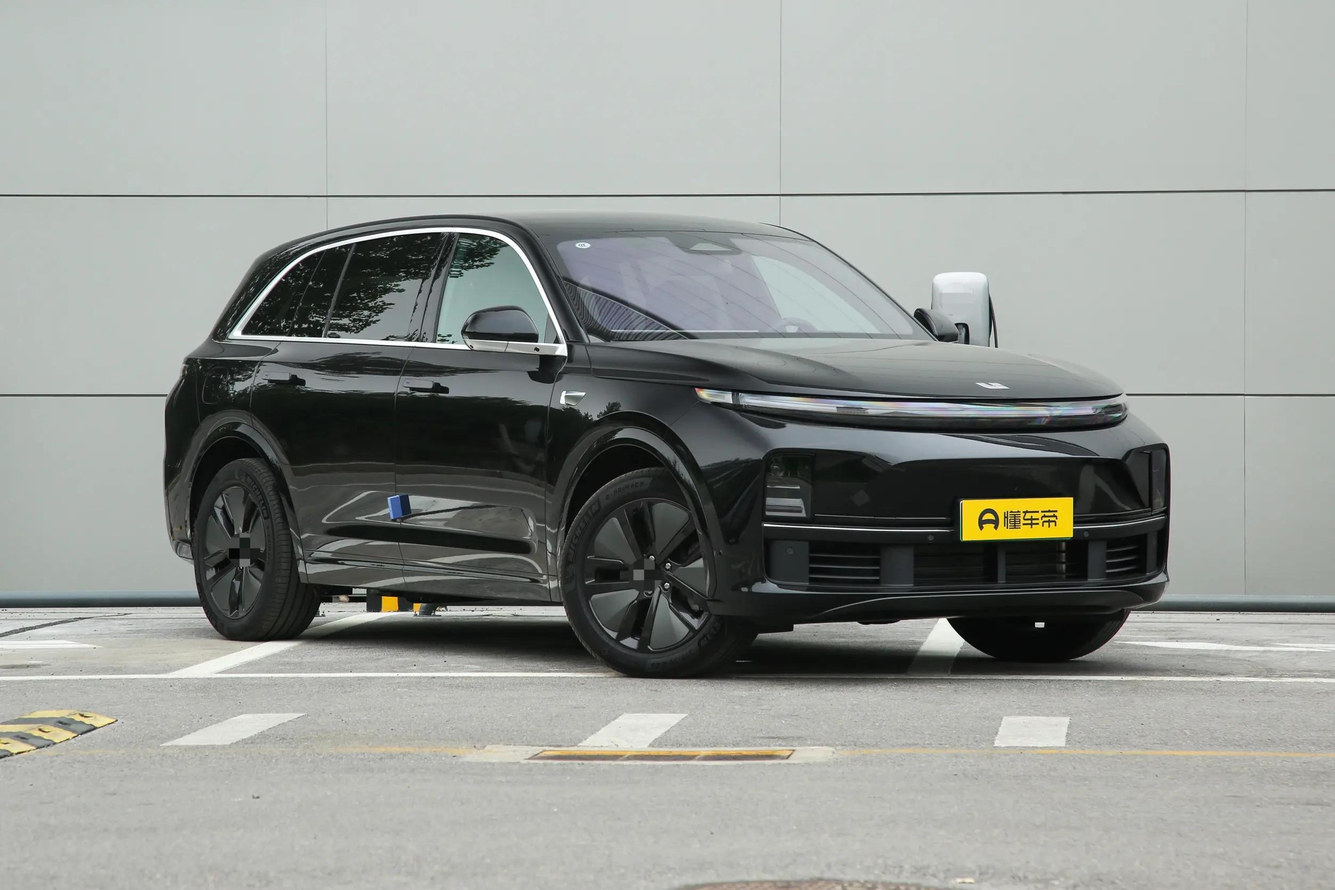Li Auto: (975, 382, 1010, 390)
